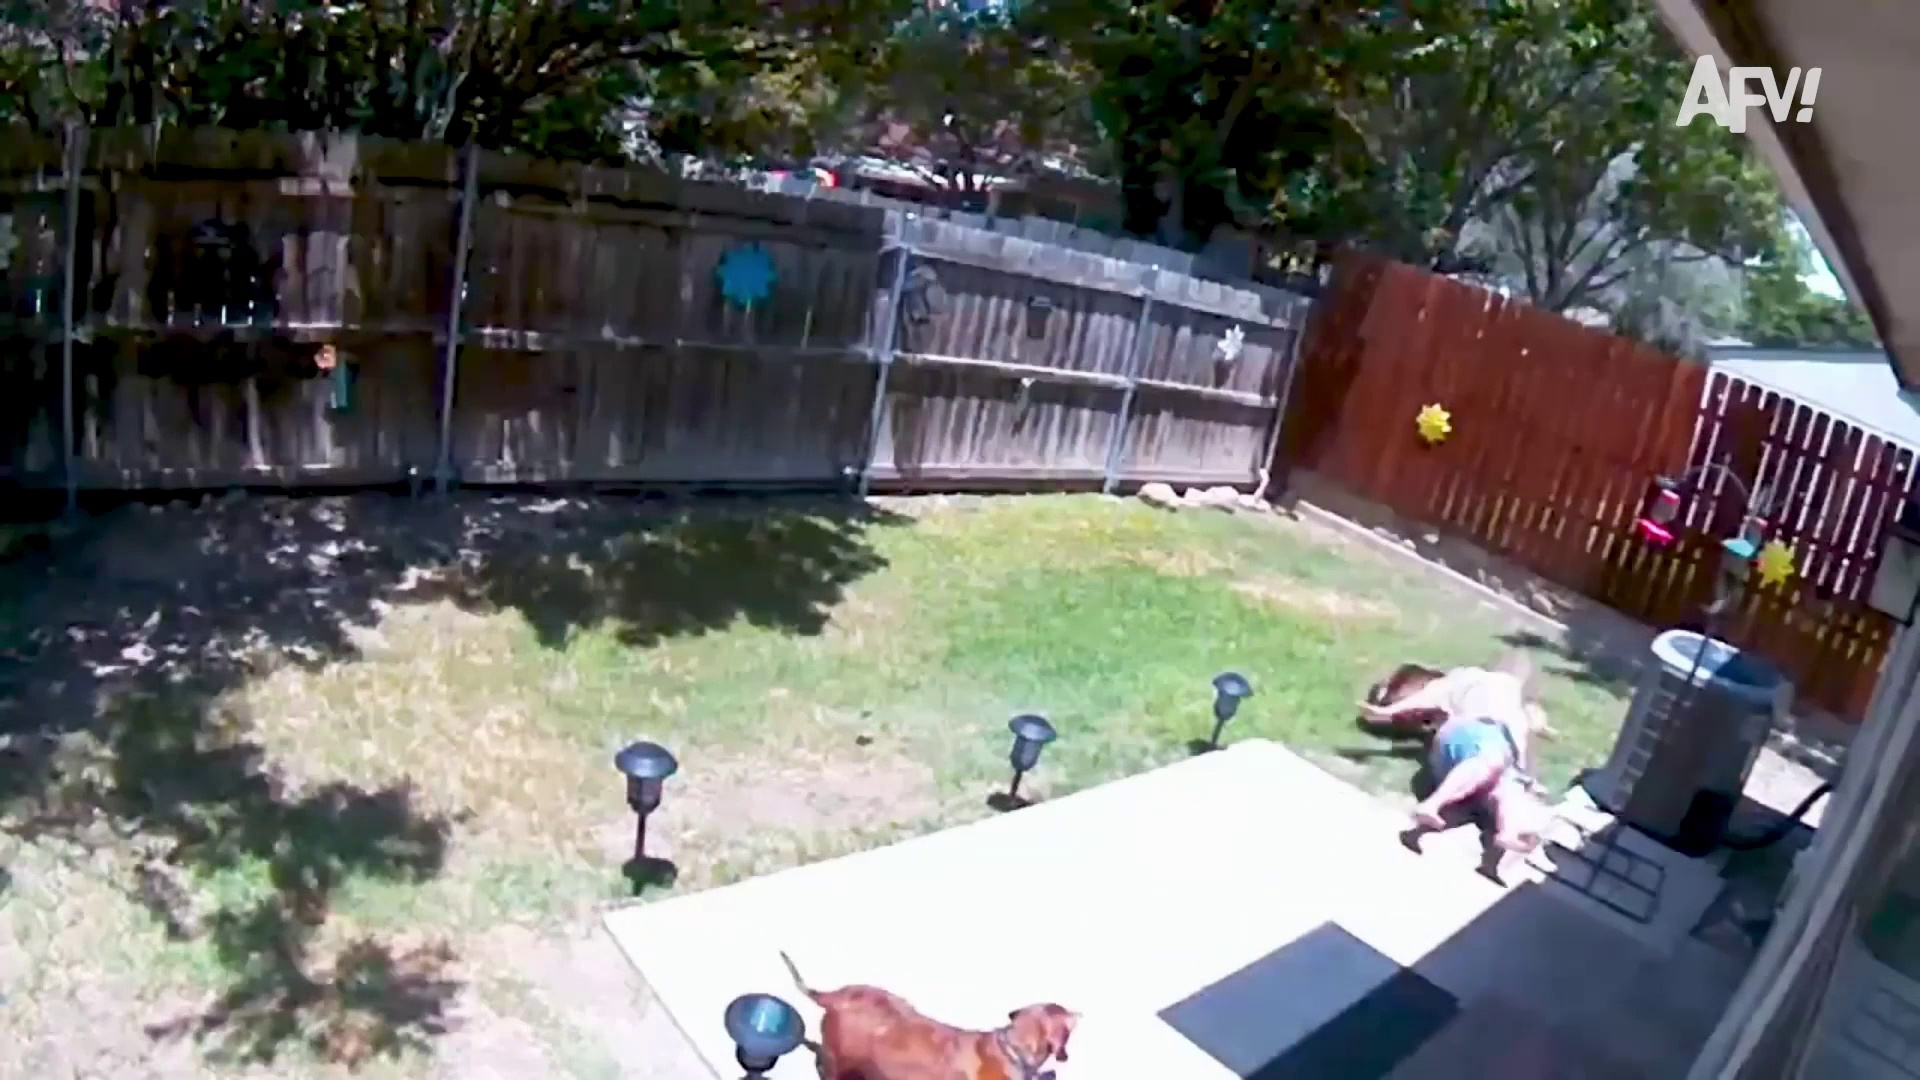fall: (1382, 601, 1565, 909)
